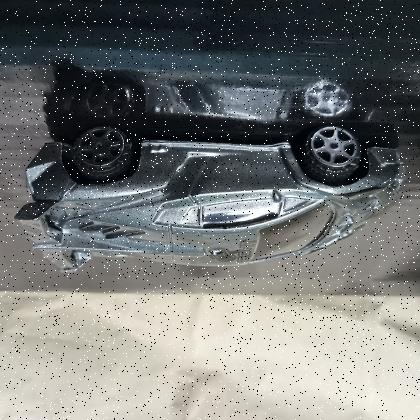Car: (14, 121, 407, 271)
